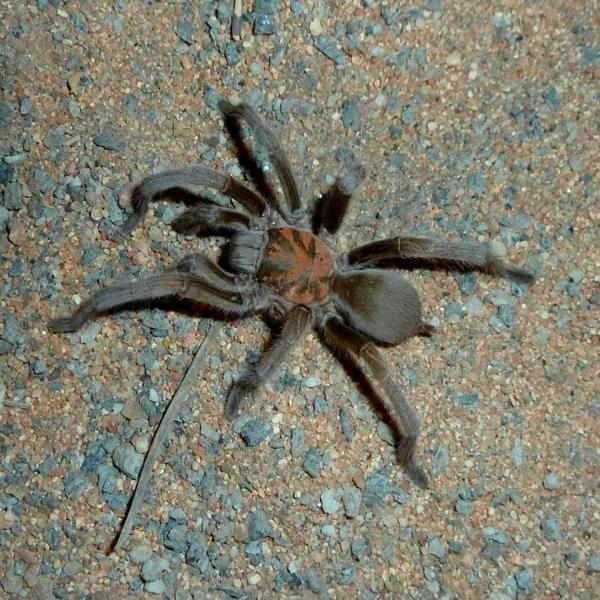Tarantula Spider: (64, 105, 535, 466)
